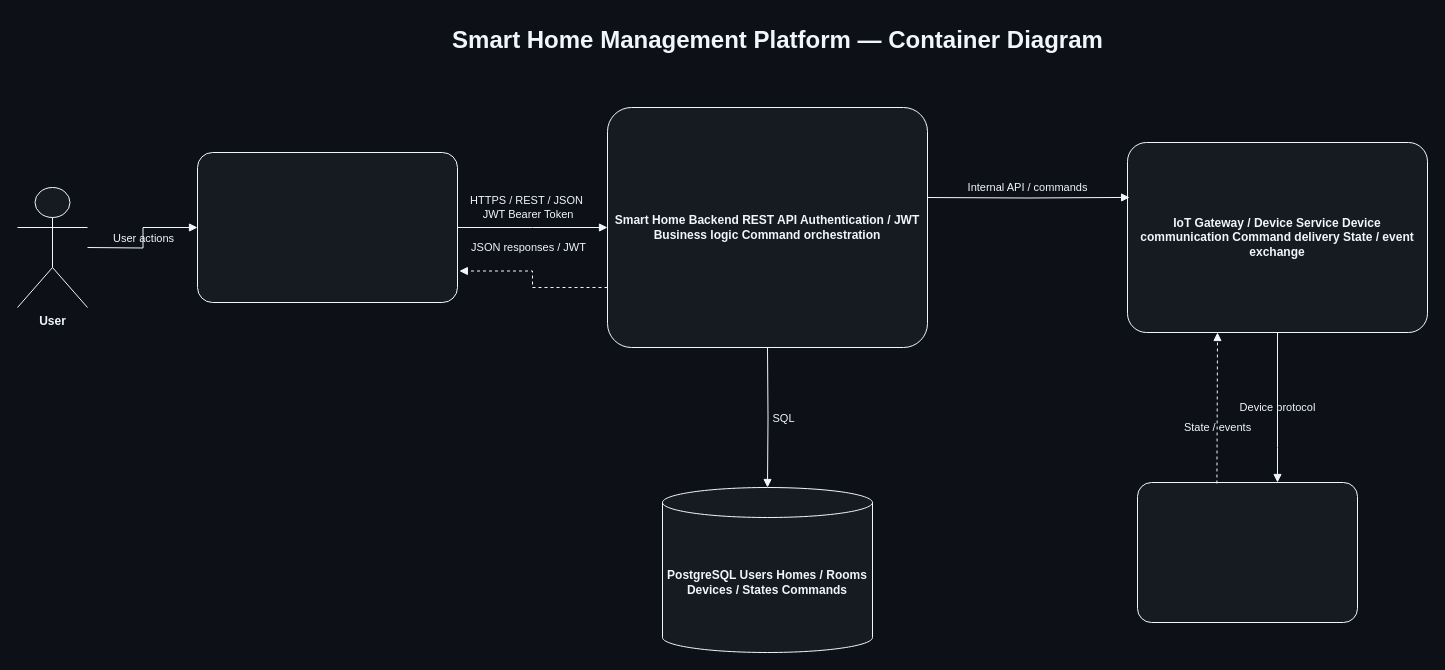
The diagram is 1445 pixels wide and 670 high, and some of its shapes have lost their labels. The shapes that lost their labels are listed below. From the top down, each one's centre as x and y in pixels, then its label:
[327,227]: Mobile App Client application UI, JWT storage, REST client
[1247,552]: IoT Devices Bulbs Future smart devices
